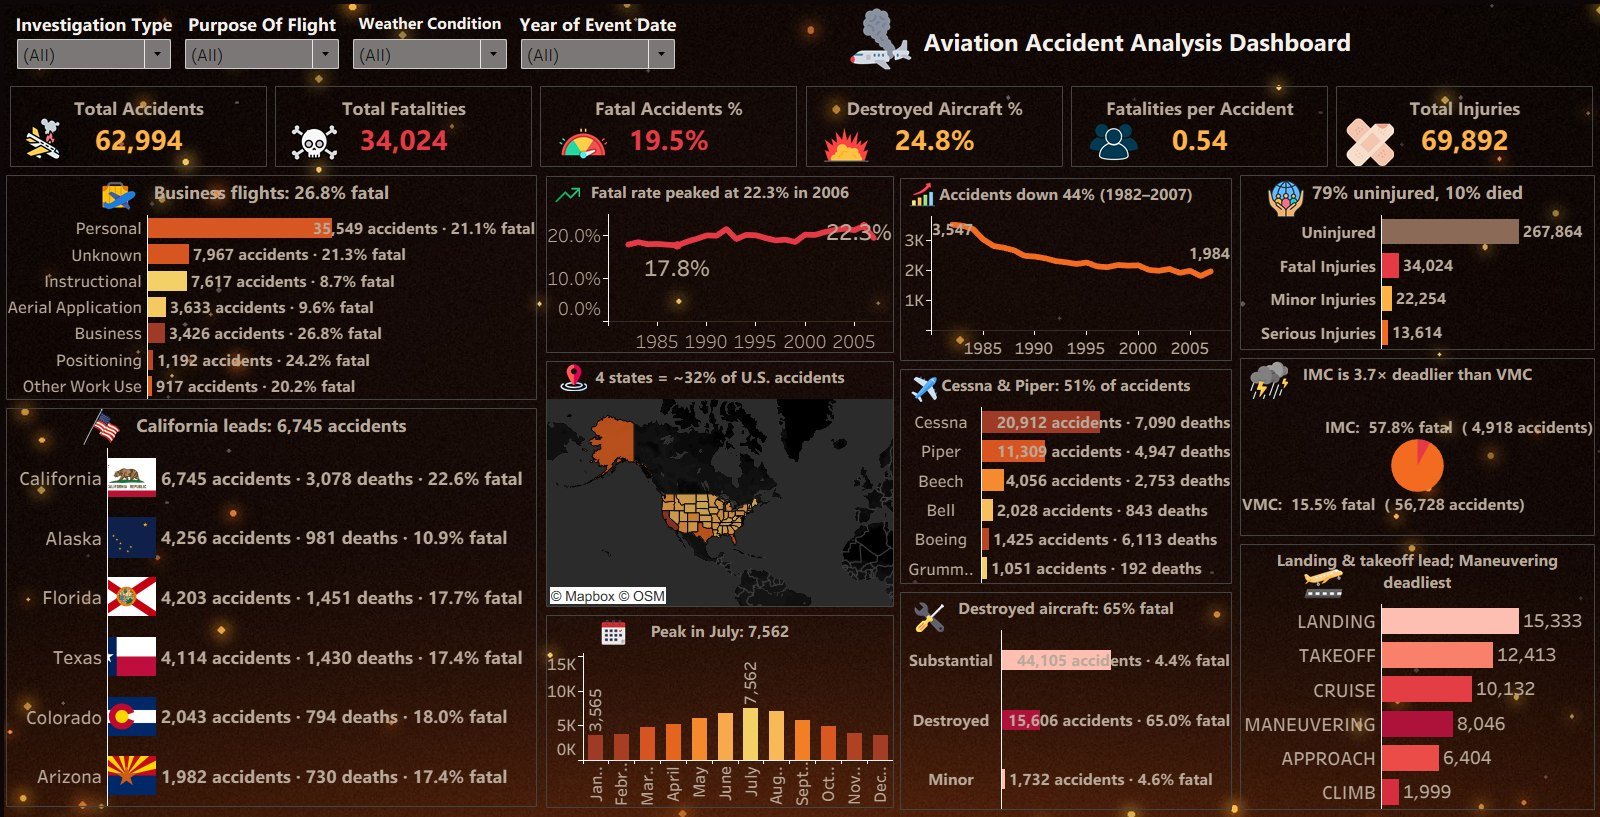

The page's visual inventory and layout, read from the dashboard file:
{"tool":"tableau","page":{"name":"Aviation Accident Analysis Dashboard","canvas":[1600,800],"ordinal":0},"visuals":[{"type":"image","param":"Image/airplane-accident (1).png","box":[777,6,208,63]},{"type":"filter","title":"Accidents Over Time","param":"[federated.0ho7zld0693xbi1gcr0r40fkg1rf].[none:investigation_type:nk]","box":[10,7,168,67]},{"type":"filter","title":"Accidents Over Time","param":"[federated.0ho7zld0693xbi1gcr0r40fkg1rf].[none:purpose_of_flight:nk]","box":[178,7,168,67]},{"type":"filter","title":"Accidents Over Time","param":"[federated.0ho7zld0693xbi1gcr0r40fkg1rf].[Weather Condition (group)]","box":[346,7,168,67]},{"type":"filter","title":"Accidents Over Time","param":"[federated.0ho7zld0693xbi1gcr0r40fkg1rf].[yr:event_date:ok]","box":[514,7,168,67]},{"type":"text","box":[682,7,911,67]},{"type":"worksheet","title":"KPI Total Accidents","mark":"Automatic","box":[6,81,265.2,89]},{"type":"worksheet","title":"KPI Total Fatalities","mark":"Automatic","box":[271.2,81,265.2,89]},{"type":"worksheet","title":"KPI Fatal %","mark":"Automatic","box":[536.3,81,265.2,89]},{"type":"worksheet","title":"KPI Destroyed %","mark":"Automatic","box":[801.5,81,265.2,89]},{"type":"worksheet","title":"KPI Fatalities per Accident","mark":"Automatic","box":[1066.7,81,265.2,89]},{"type":"worksheet","title":"KPI Total Injuries","mark":"Automatic","box":[1331.8,81,265.2,89]},{"type":"image","param":"Image/airplane-accident.png","box":[10,115,73,48]},{"type":"image","param":"Image/pngegg.png","box":[1077,116,73,48]},{"type":"image","param":"Image/skull.png","box":[278,117,73,48]},{"type":"image","param":"Image/bandage.png","box":[1334,117,73,48]},{"type":"image","param":"Image/gauge.png","box":[547,118,73,48]},{"type":"image","param":"Image/explosion.png","box":[810,119,73,48]},{"type":"worksheet","title":"Purpose of Flight","mark":"Automatic","rows":["purpose_of_flight"],"cols":["Calculation_1609203894407168"],"box":[2,170,539,233]},{"type":"worksheet","title":"People Impact","mark":"Automatic","box":[1236,170,363,182.6]},{"type":"worksheet","title":"Fatal % Over Time","mark":"Automatic","rows":["Calculation_1609203894874114"],"cols":["event_date"],"box":[542,171,356,185]},{"type":"worksheet","title":"Accidents Over Time","mark":"Automatic","rows":["Calculation_1609203894407168"],"cols":["event_date"],"box":[896,173,340,191]},{"type":"image","param":"Image/business-travel.png","box":[51,176,136,37]},{"type":"image","param":"Image/social-impact.png","box":[1261,177,49,41]},{"type":"image","param":"Image/growth.png","box":[909,179,26,28]},{"type":"image","param":"Image/trend.png","box":[551,181,33,25]},{"type":"worksheet","title":"Weather Pie","mark":"Pie","box":[1236,352.6,363,186]},{"type":"worksheet","title":"Map","mark":"Multipolygon","box":[542,356,356,254]},{"type":"image","param":"Image/thunder.png","box":[1245,360,48,38]},{"type":"image","param":"Image/location.png","box":[557,363,33,27]},{"type":"worksheet","title":"Top Makes","mark":"Automatic","rows":["make"],"cols":["Calculation_1609203894407168"],"box":[896,364,340,223]},{"type":"image","param":"Image/plane.png","box":[911,372,26,33]},{"type":"image","param":"Image/america.png","box":[49,407,106,37]},{"type":"image","param":"Image/takeoff.png","box":[1277,558,93,42]},{"type":"image","param":"Image/settings.png","box":[910,601,39,30]},{"type":"image","param":"Image/calendar.png","box":[581,618,64,26]}]}

Visuals, with their boxes in screenshot pixels (x1, y1, x2, y2), scaled from the page's 1600x800 canvas onto the 1600x817 screenshot:
image: region(777, 6, 985, 70)
"Accidents Over Time" filter: region(10, 7, 178, 76)
"Accidents Over Time" filter: region(178, 7, 346, 76)
"Accidents Over Time" filter: region(346, 7, 514, 76)
"Accidents Over Time" filter: region(514, 7, 682, 76)
text: region(682, 7, 1593, 76)
"KPI Total Accidents" worksheet: region(6, 83, 271, 174)
"KPI Total Fatalities" worksheet: region(271, 83, 536, 174)
"KPI Fatal %" worksheet: region(536, 83, 802, 174)
"KPI Destroyed %" worksheet: region(802, 83, 1067, 174)
"KPI Fatalities per Accident" worksheet: region(1067, 83, 1332, 174)
"KPI Total Injuries" worksheet: region(1332, 83, 1597, 174)
image: region(10, 117, 83, 166)
image: region(1077, 118, 1150, 167)
image: region(278, 119, 351, 169)
image: region(1334, 119, 1407, 169)
image: region(547, 121, 620, 170)
image: region(810, 122, 883, 171)
"Purpose of Flight" worksheet: region(2, 174, 541, 412)
"People Impact" worksheet: region(1236, 174, 1599, 360)
"Fatal % Over Time" worksheet: region(542, 175, 898, 364)
"Accidents Over Time" worksheet: region(896, 177, 1236, 372)
image: region(51, 180, 187, 218)
image: region(1261, 181, 1310, 223)
image: region(909, 183, 935, 211)
image: region(551, 185, 584, 210)
"Weather Pie" worksheet (Pie marks): region(1236, 360, 1599, 550)
"Map" worksheet (Multipolygon marks): region(542, 364, 898, 623)
image: region(1245, 368, 1293, 406)
image: region(557, 371, 590, 398)
"Top Makes" worksheet: region(896, 372, 1236, 599)
image: region(911, 380, 937, 414)
image: region(49, 416, 155, 453)
image: region(1277, 570, 1370, 613)
image: region(910, 614, 949, 644)
image: region(581, 631, 645, 658)
